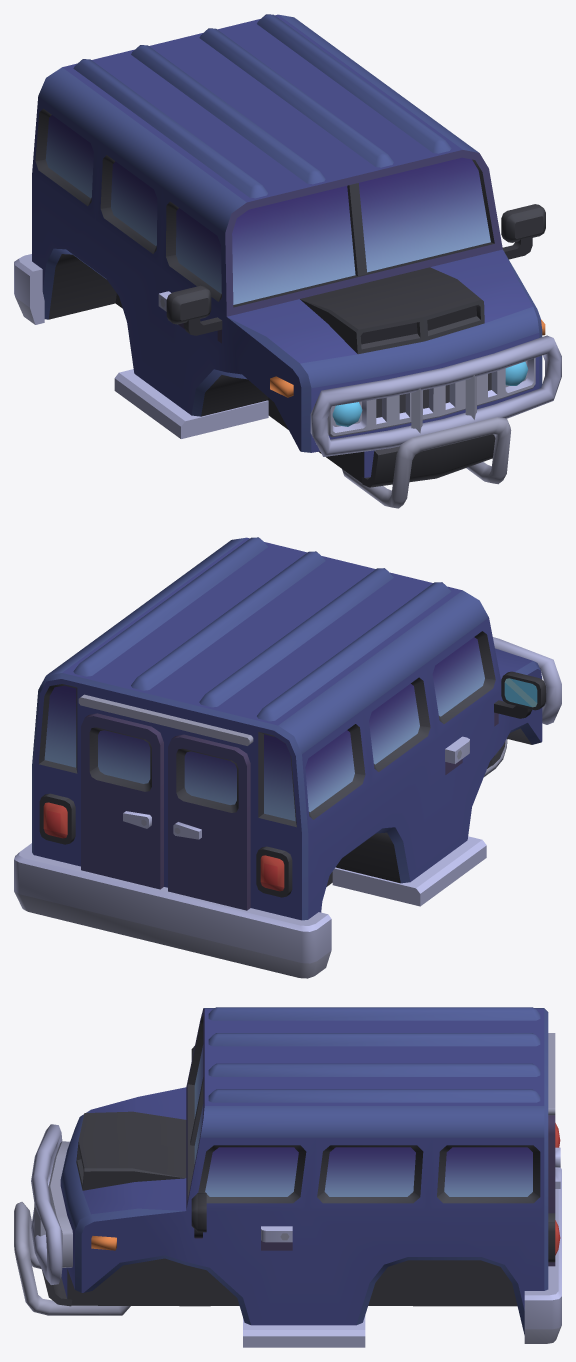
The model's file is HummerBus_Blue.fbx.
3 views of the same model, one above another, from view 1: azimuth 30°, elevation 25°; view 2: azimuth 150°, elevation 25°; view 3: azimuth 270°, elevation 25° (orthographic). The views are drawn at different scales.
Visible parts, largest first — view 1: Car_3; view 2: Car_3; view 3: Car_3.
Part boxes in pixels (x1,y1,x2,y2): Car_3: (14,14,561,508); Car_3: (14,537,561,978); Car_3: (14,1007,561,1347).
Bounding box in the file's own units: 3.28 × 2.22 × 4.53.
